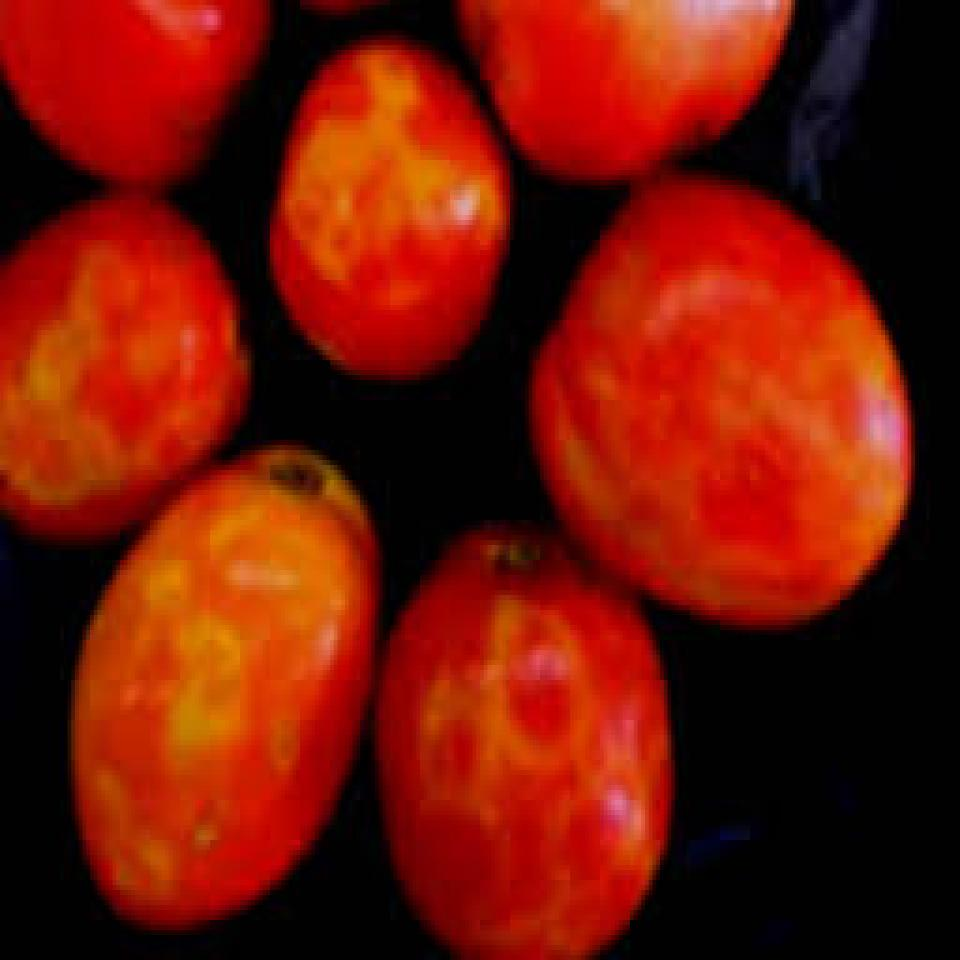Spotted wilt Virus: (532, 170, 911, 630), (68, 440, 382, 935), (375, 535, 668, 960), (0, 190, 251, 532), (278, 37, 515, 377), (458, 0, 791, 190)
